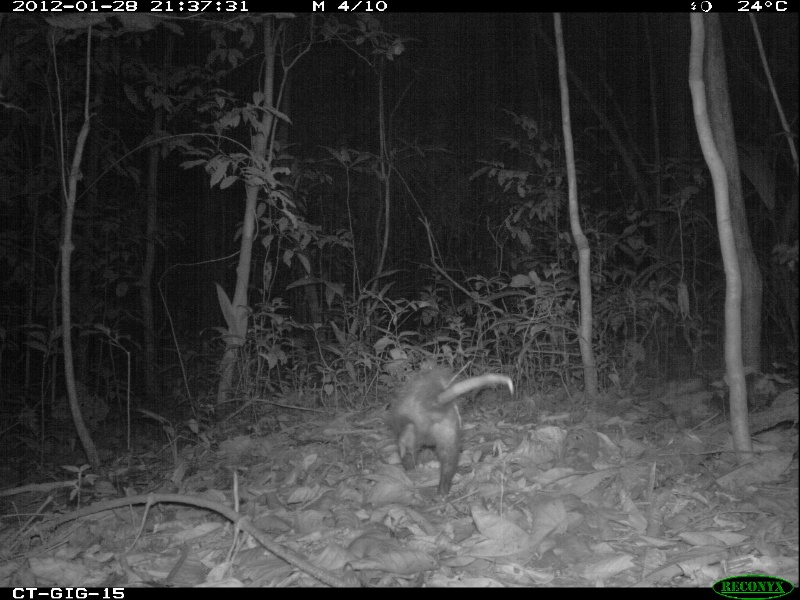opossum: (392, 358, 521, 504)
